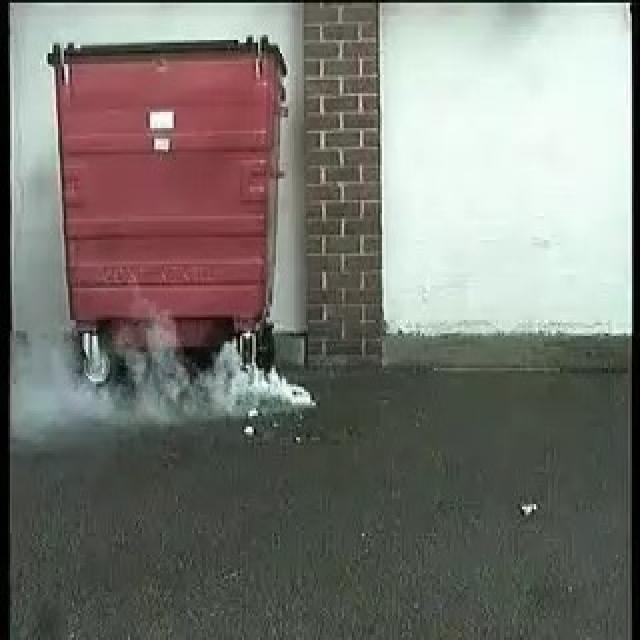smoke: (40, 314, 316, 429)
